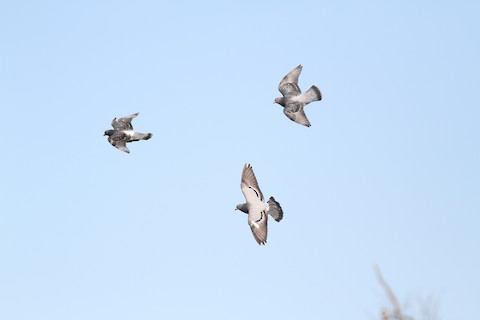pigeon: (230, 161, 286, 246), (269, 59, 328, 128), (99, 107, 158, 158)
